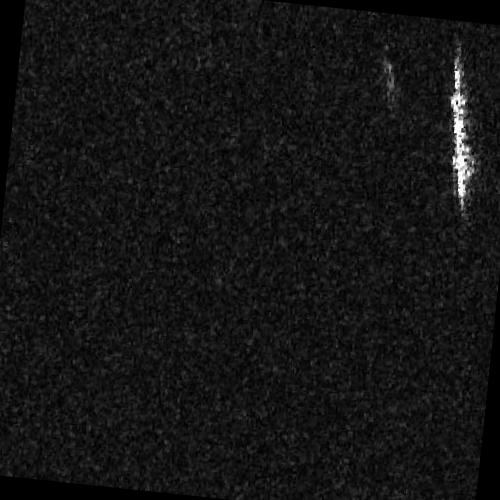ship: (449, 52, 474, 212)
